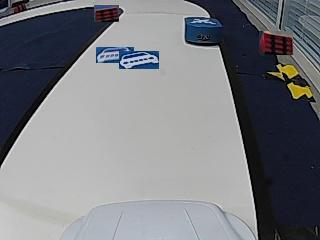prop: (184, 17, 223, 46)
